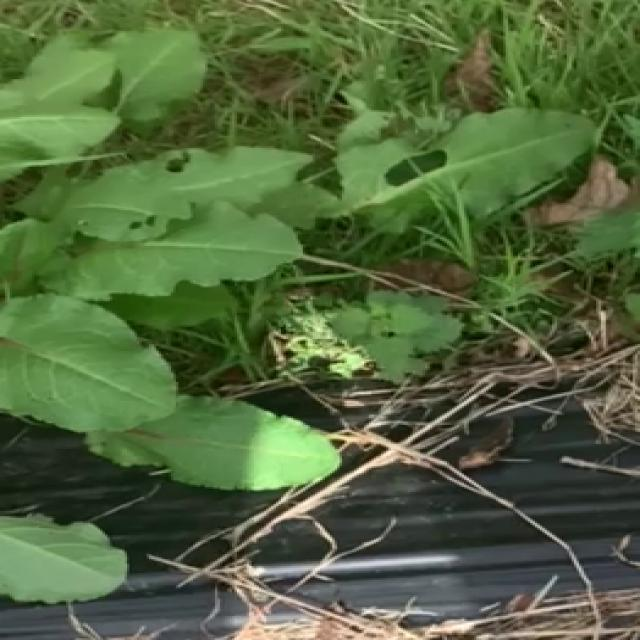organic waste: (0, 14, 603, 611)
